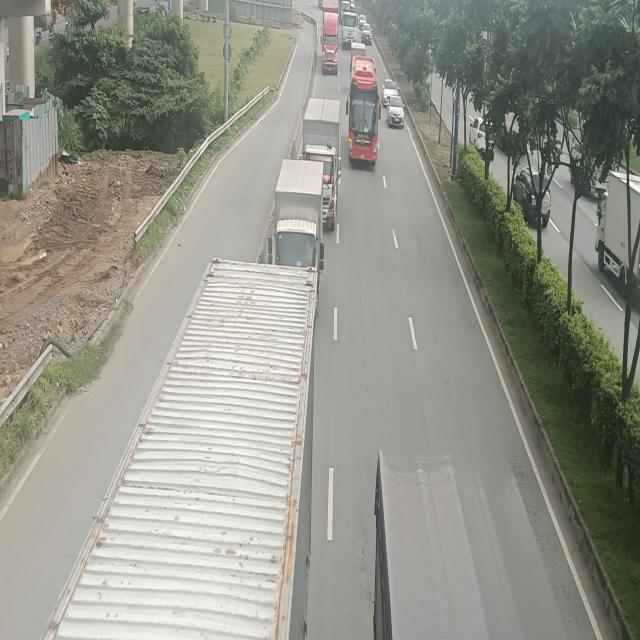car: (387, 96, 405, 130), (382, 78, 398, 105), (362, 24, 372, 46)
coach: (346, 56, 381, 165)
container: (54, 257, 313, 640), (320, 0, 340, 75), (341, 9, 358, 48)
truck: (267, 157, 324, 303), (300, 96, 340, 226)
